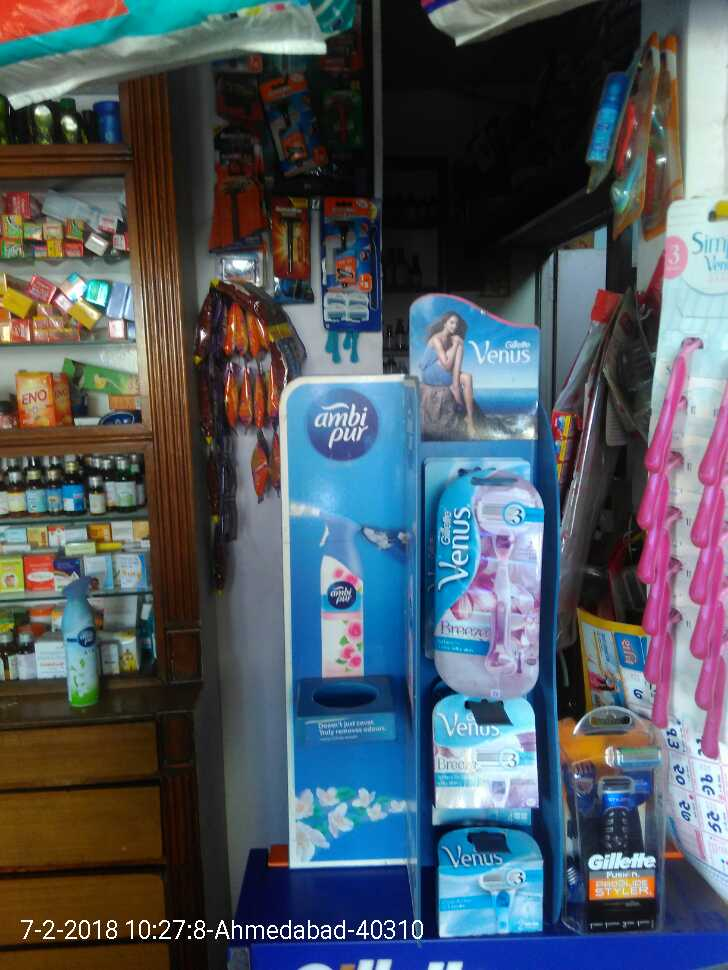beauty: (426, 471, 550, 696), (565, 717, 675, 937), (431, 692, 543, 807), (436, 822, 540, 938), (212, 147, 267, 260)
home: (54, 571, 108, 710)
